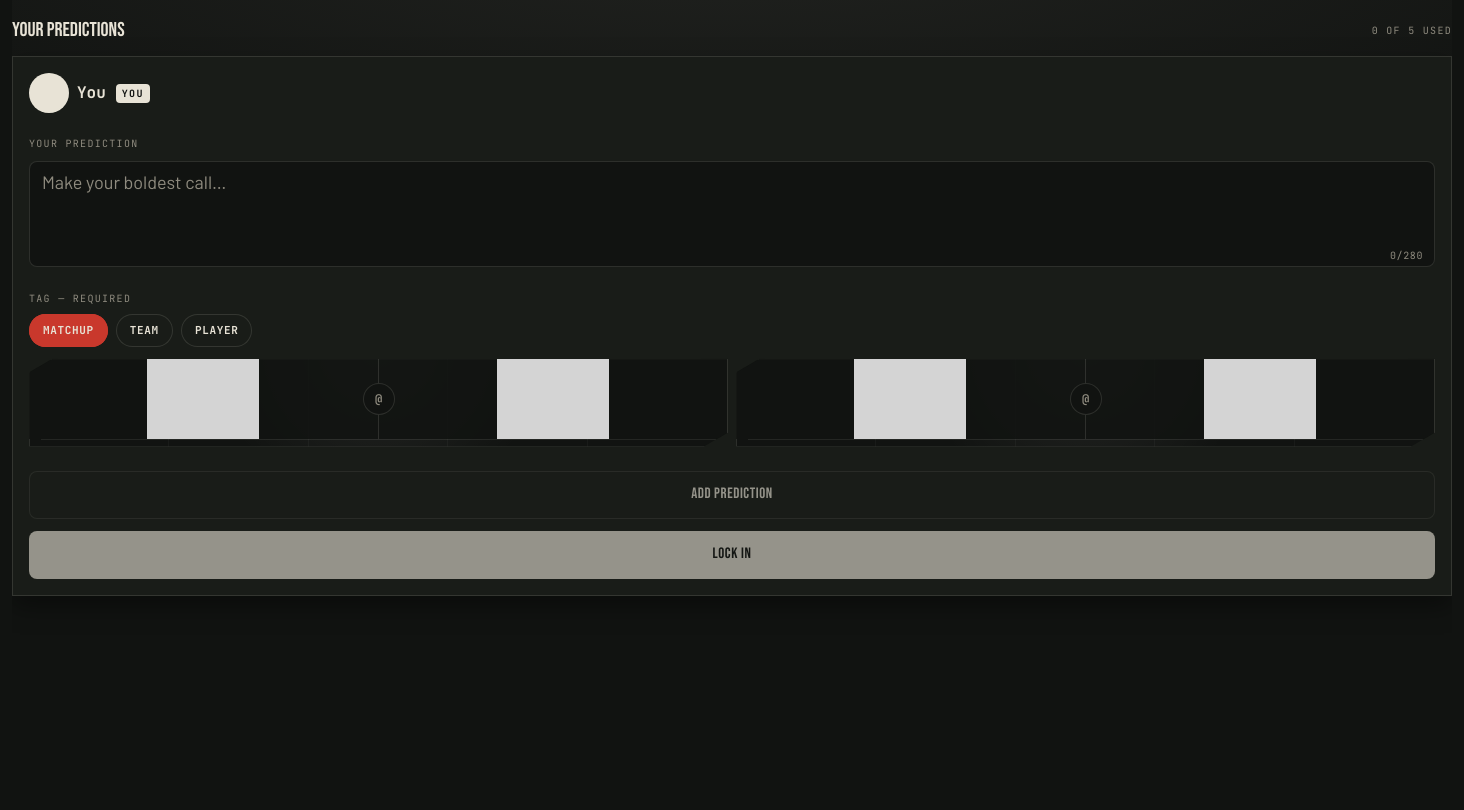
Test: counts the drafted slots and the characters
The image size is (1464, 810).
Check: the text "0 of 5 used" is shown, box [1372,22,1452,38]
Check: the text "0/280" is shown, box [1390,251,1423,261]
In the text box labelled "Your prediction": {"x": 732, "y": 214} [29,161,1435,267], type "Hello"
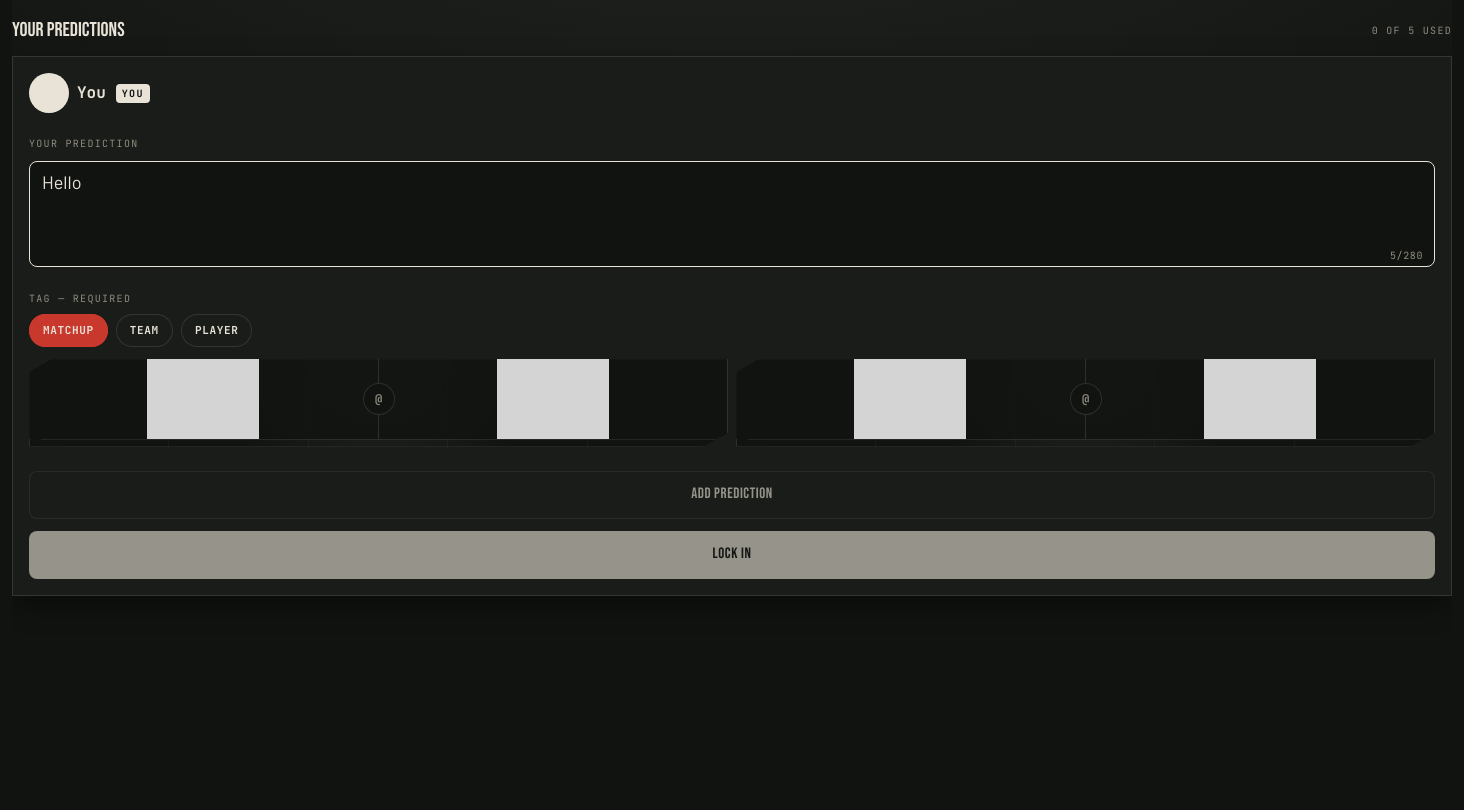
Check: the text "5/280" is shown, box [1390,251,1423,261]
Click the button named "Bills @ Chiefs": {"x": 378, "y": 402} [29,358,728,446]
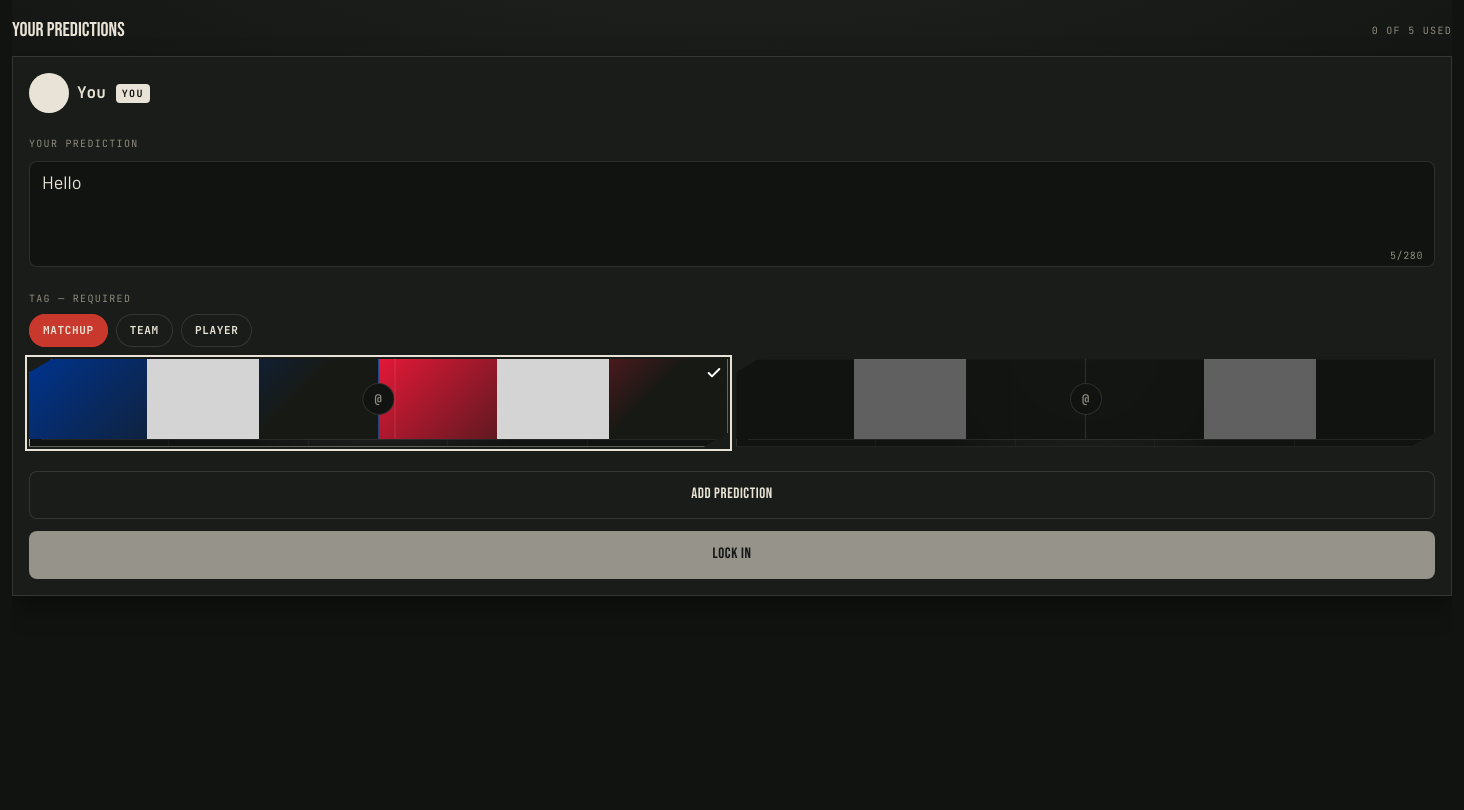
Click the button "Add prediction": {"x": 732, "y": 494} [29,470,1435,518]
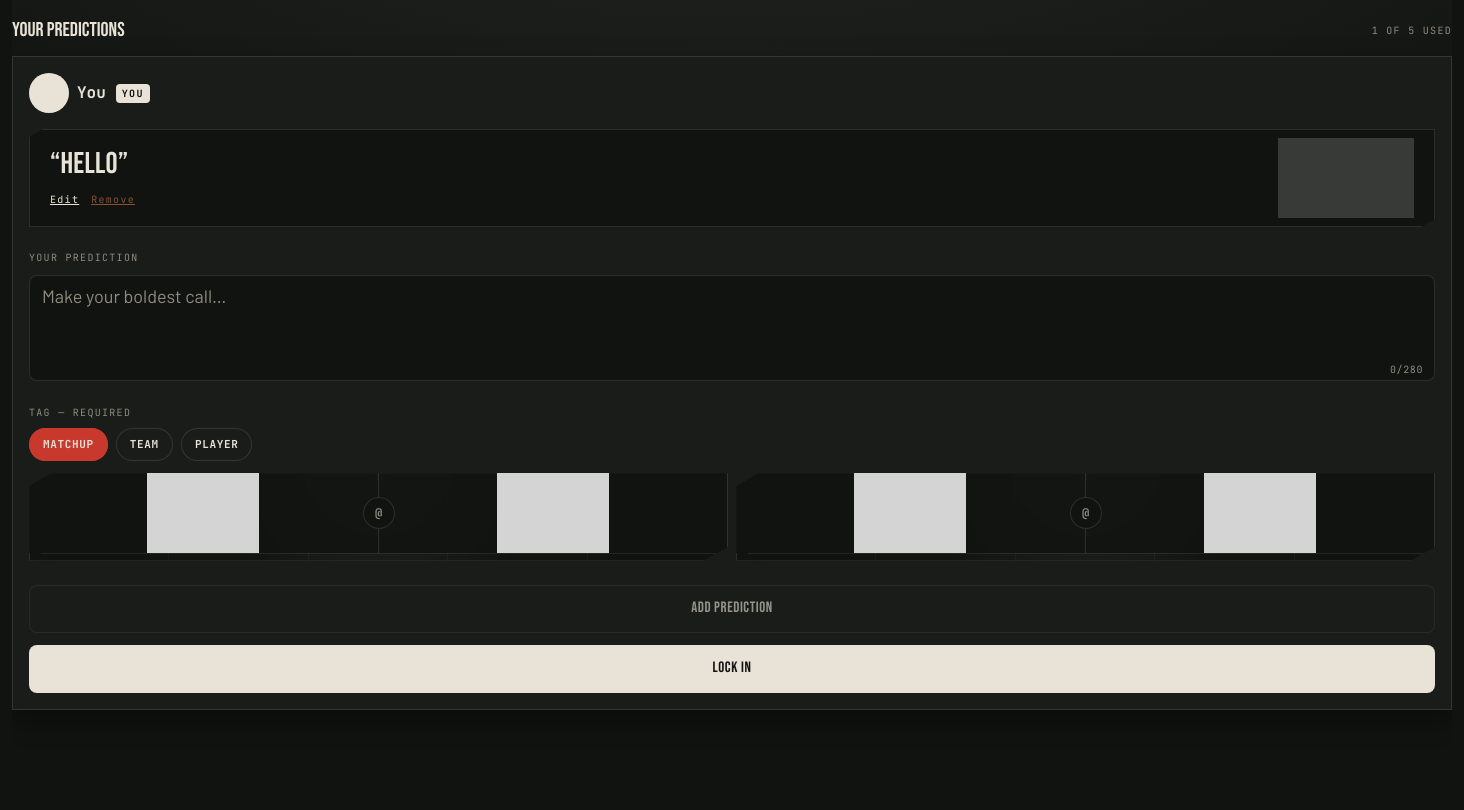
Check: the text "1 of 5 used" is shown, box [1372,22,1452,38]
